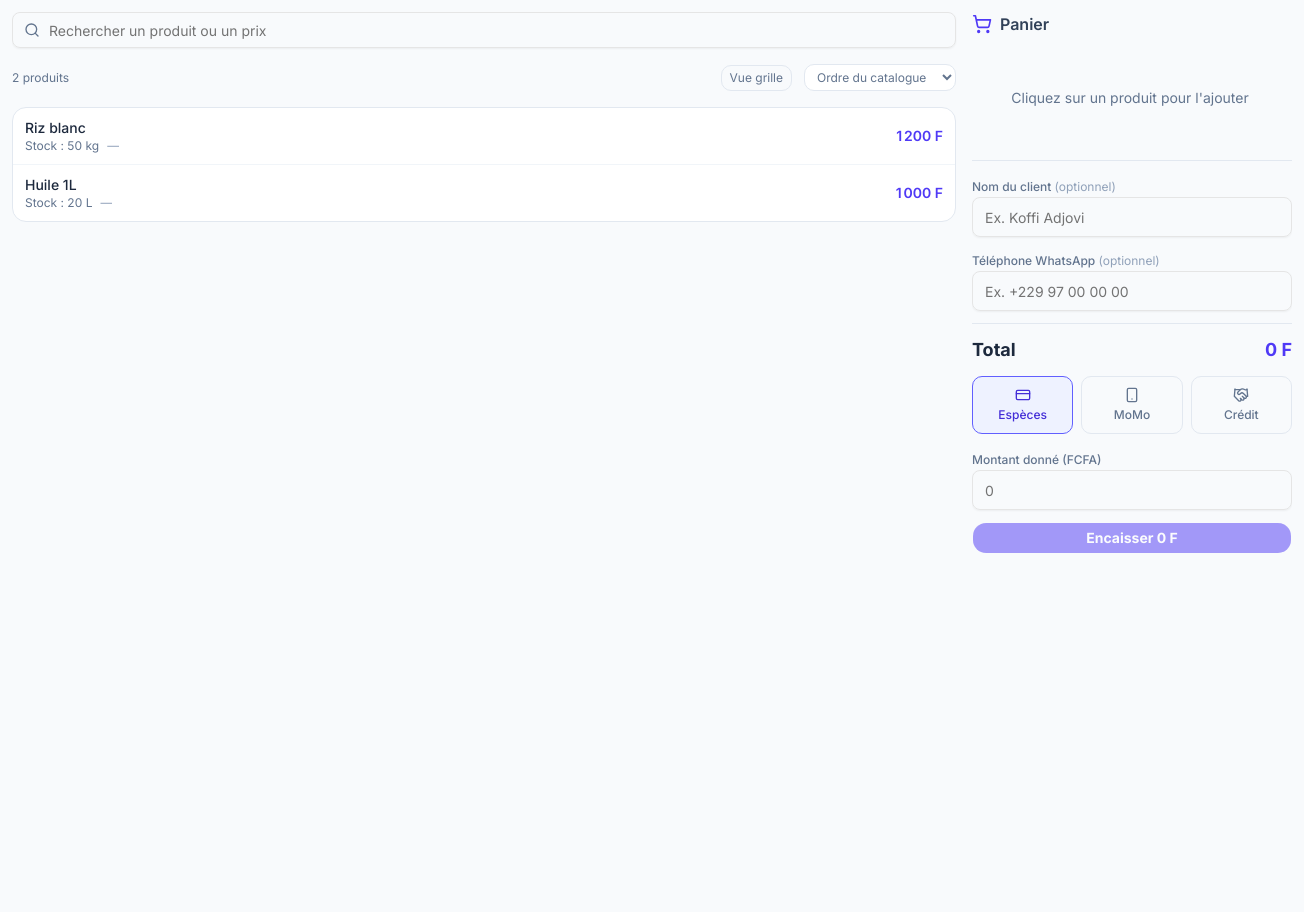
Test case: POS — le refus d'encaissement ne survit pas à la correction › l'erreur disparaît aussi quand on retire la ligne fautive
Click the text "Riz blanc".
click(55, 128)  # box [25,119,86,136]
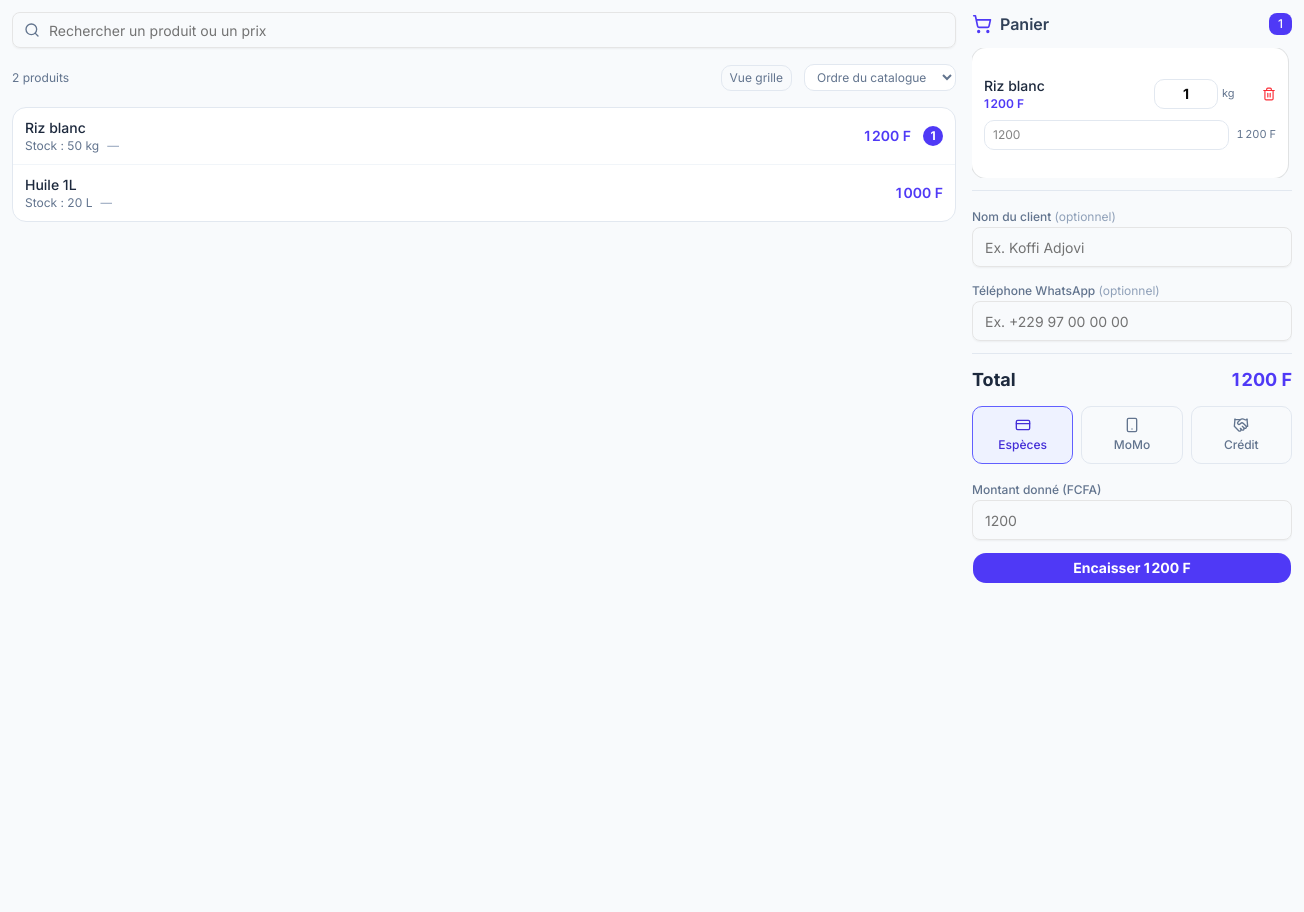
Click the button "Encaisser 1 200 F".
click(1132, 568)  # box [972,552,1292,584]
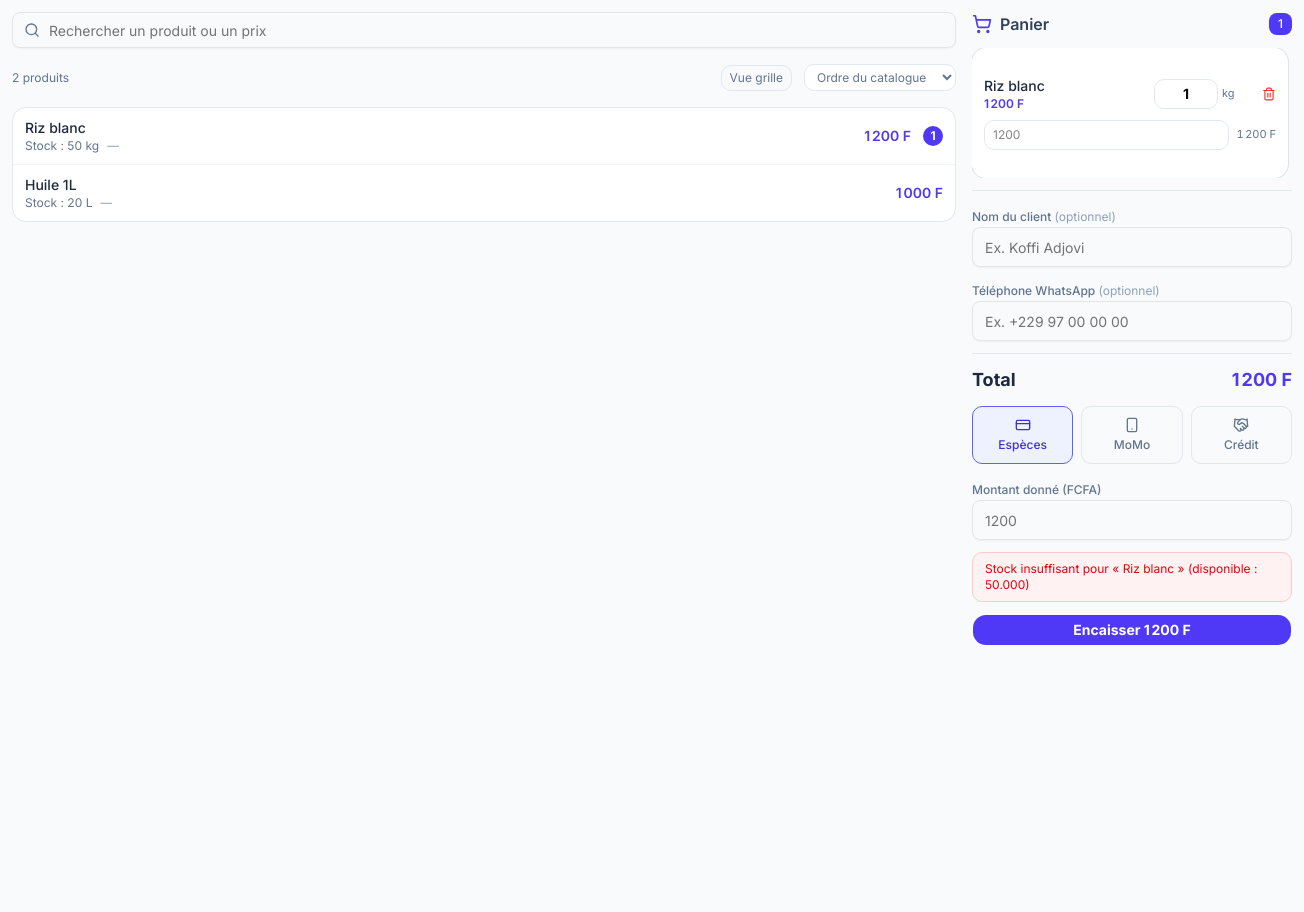
Expected: the text "Stock insuffisant pour « Riz blanc » (disponible : 50.000)" is shown, [972,552,1292,602]
Click the button named "Retirer du panier".
click(1269, 94)  # box [1262,87,1276,101]
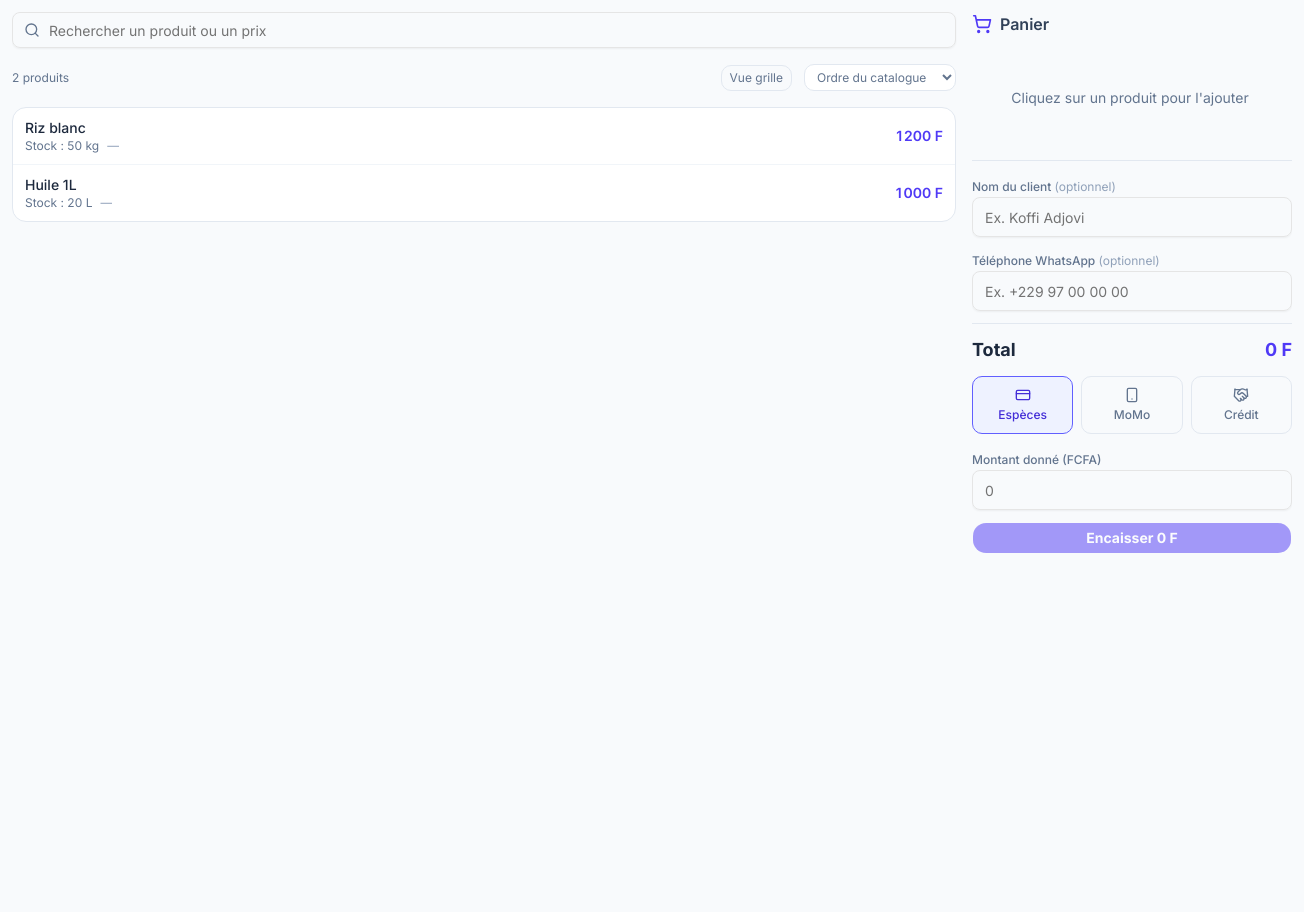
Expected: the text "Stock insuffisant" is gone
